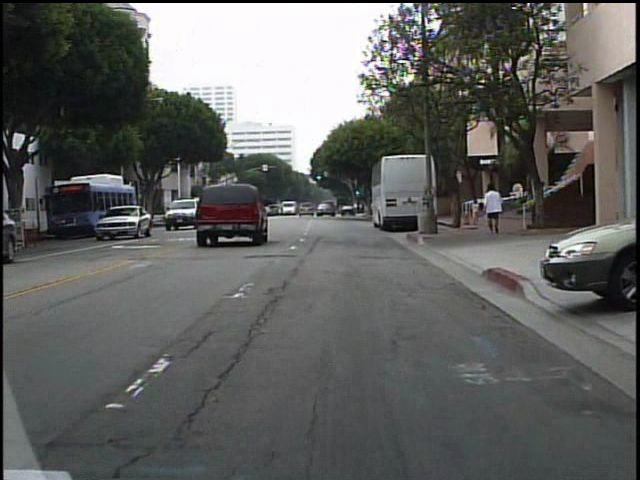person: (484, 181, 508, 237), (468, 195, 482, 228)
